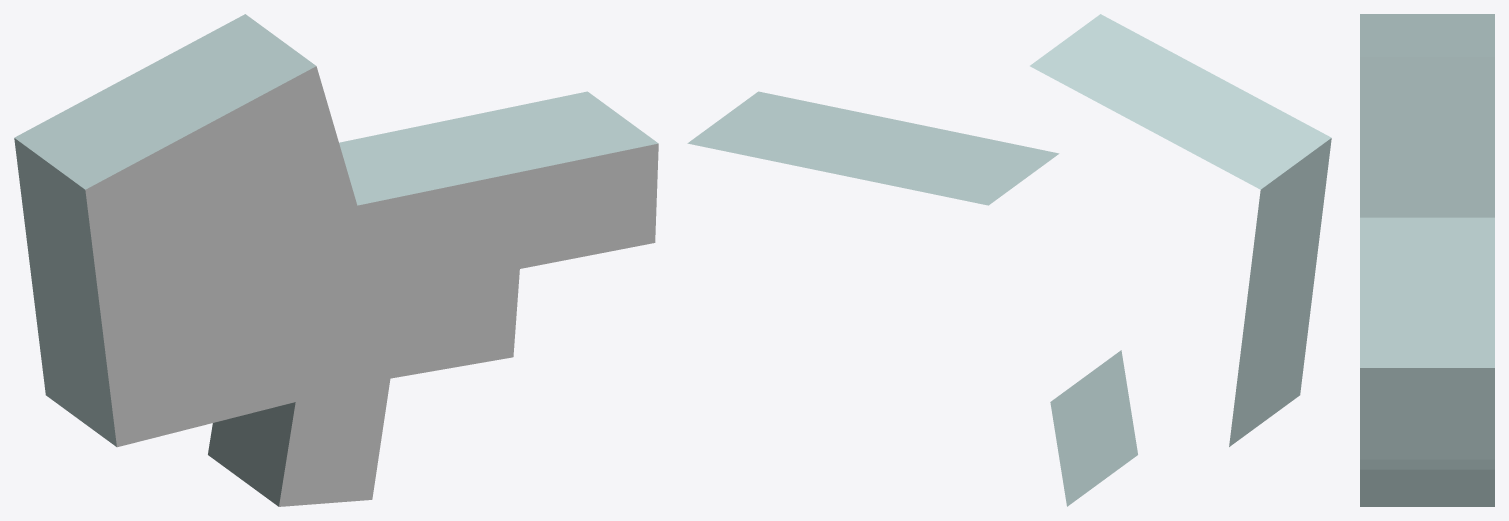
The picture shows the model from 3 angles, left to right: view 1: azimuth 30°, elevation 25°; view 2: azimuth 150°, elevation 25°; view 3: azimuth 270°, elevation 25°; orthographic projection. The views are drawn at different scales.
Visible parts, largest first — view 1: 0_3_1_3_1_2_1_3_2; view 2: 0_3_1_3_1_2_1_3_2; view 3: 0_3_1_3_1_2_1_3_2.
Boxes of the visible parts, x1,y1,x2,y2 form: 0_3_1_3_1_2_1_3_2: (14,14,658,506); 0_3_1_3_1_2_1_3_2: (687,14,1331,506); 0_3_1_3_1_2_1_3_2: (1360,14,1494,506).
Bounding box in the file's own units: 13.96 × 10.41 × 3.
